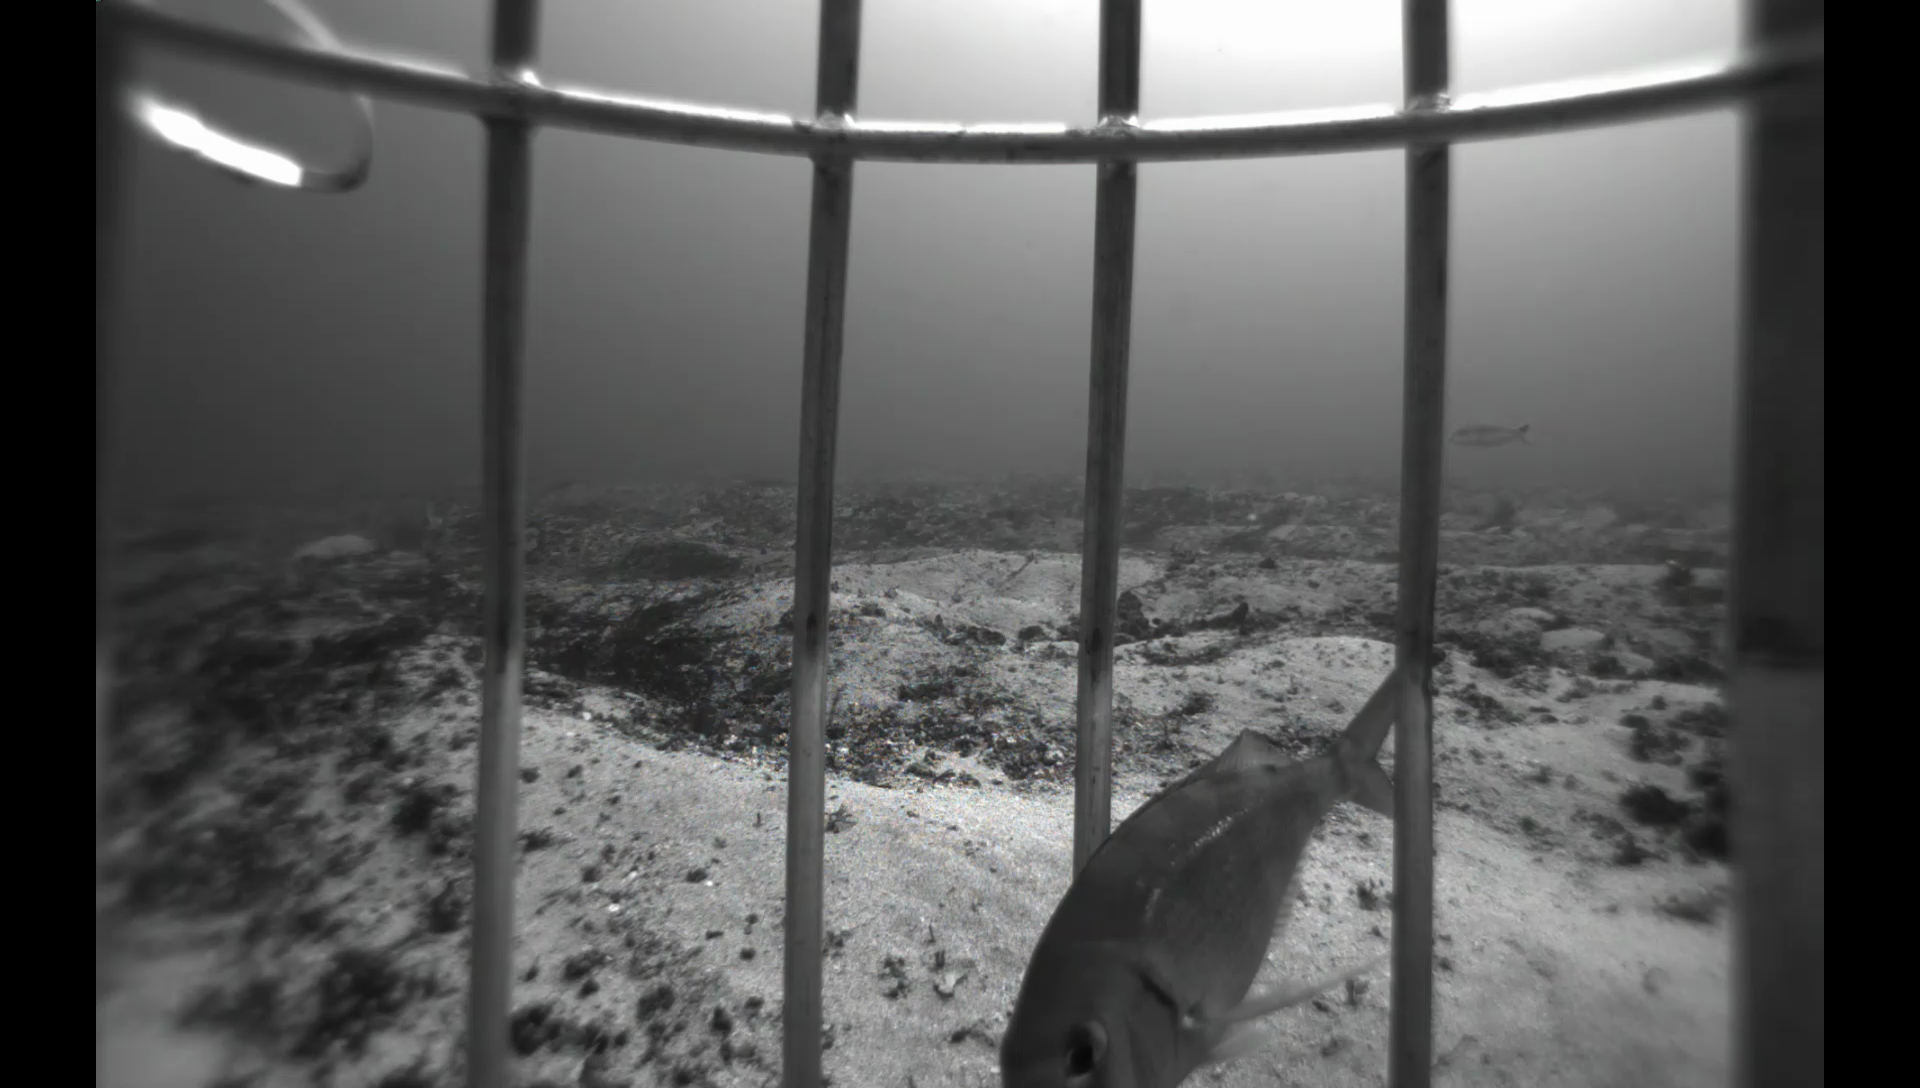MALACANTHUSPLUMIERI-170070301: (1445, 414, 1534, 448)
PAGRUSPAGRUS-170212302: (996, 657, 1402, 1085)
POMACANTHUSARCUATUS-170290201: (339, 484, 447, 560)
